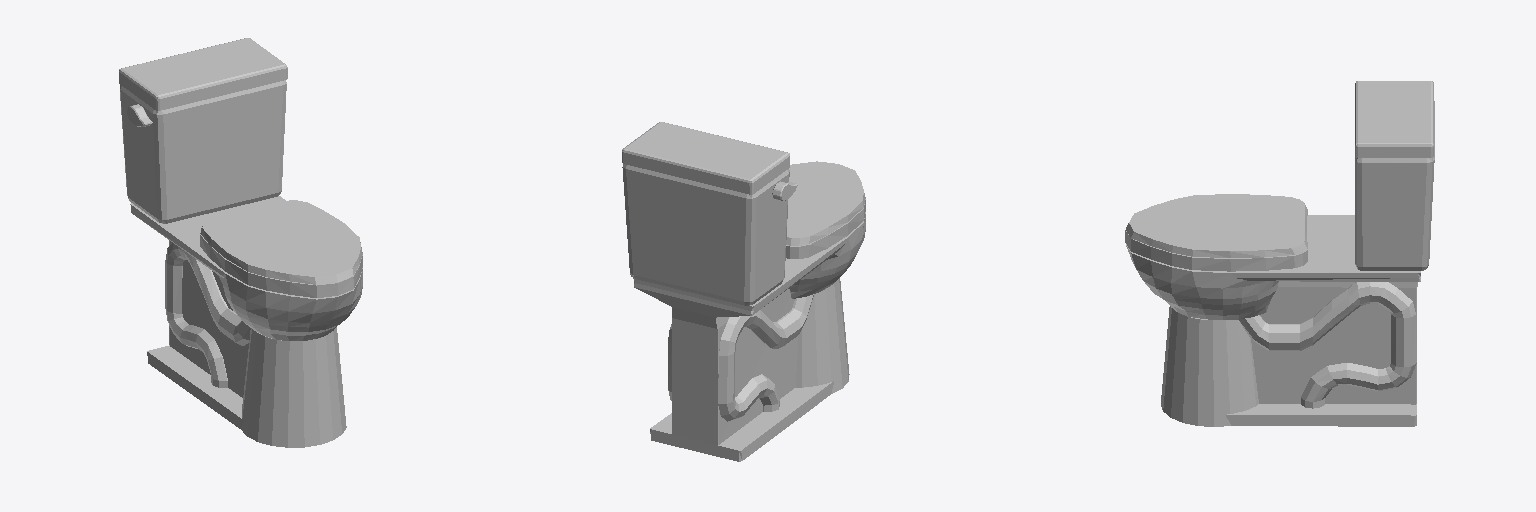
File: Toilet_UV.obj
3 renders of one model, left to right at view 1: azimuth 30°, elevation 25°; view 2: azimuth 150°, elevation 25°; view 3: azimuth 270°, elevation 25°, orthographic.
Parts seen in each view (by area): view 1: Toilet, Tank, polySurface3, TankLid, ToiletSeat; view 2: Toilet, Tank, TankLid, polySurface3, ToiletSeat; view 3: Toilet, polySurface3, Tank, TankLid, ToiletSeat.
Boxes of the visible parts, box(x1,y1,x2,y2) form: Toilet: box(130, 196, 362, 447); Tank: box(120, 80, 286, 223); polySurface3: box(200, 200, 362, 284); TankLid: box(119, 38, 287, 110); ToiletSeat: box(200, 232, 362, 297); Toilet: box(633, 212, 865, 461); Tank: box(622, 164, 789, 305); TankLid: box(622, 122, 789, 194); polySurface3: box(786, 161, 865, 245); ToiletSeat: box(786, 199, 865, 258); Toilet: box(1126, 215, 1420, 426); polySurface3: box(1126, 194, 1307, 257); Tank: box(1355, 101, 1434, 270); TankLid: box(1355, 81, 1433, 157); ToiletSeat: box(1125, 216, 1307, 271).
Bounding box in the file's own units: 39.2 × 76.99 × 73.73.